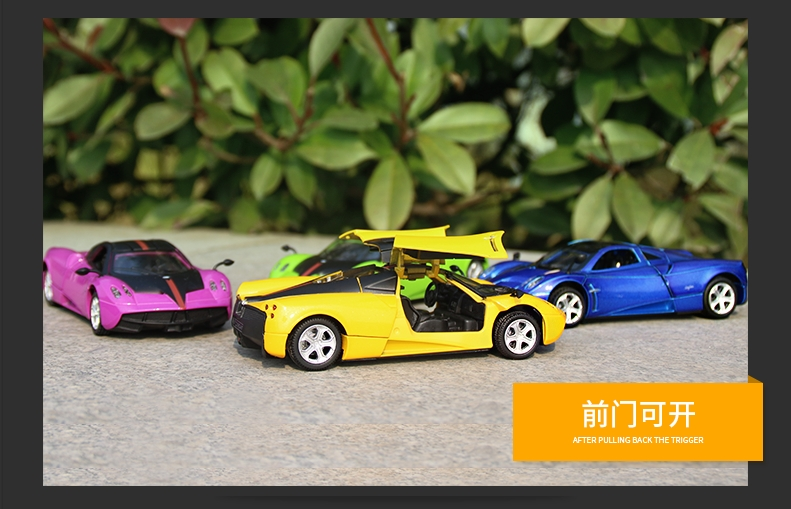Car: (228, 259, 574, 384), (472, 232, 751, 342), (41, 234, 237, 347)
